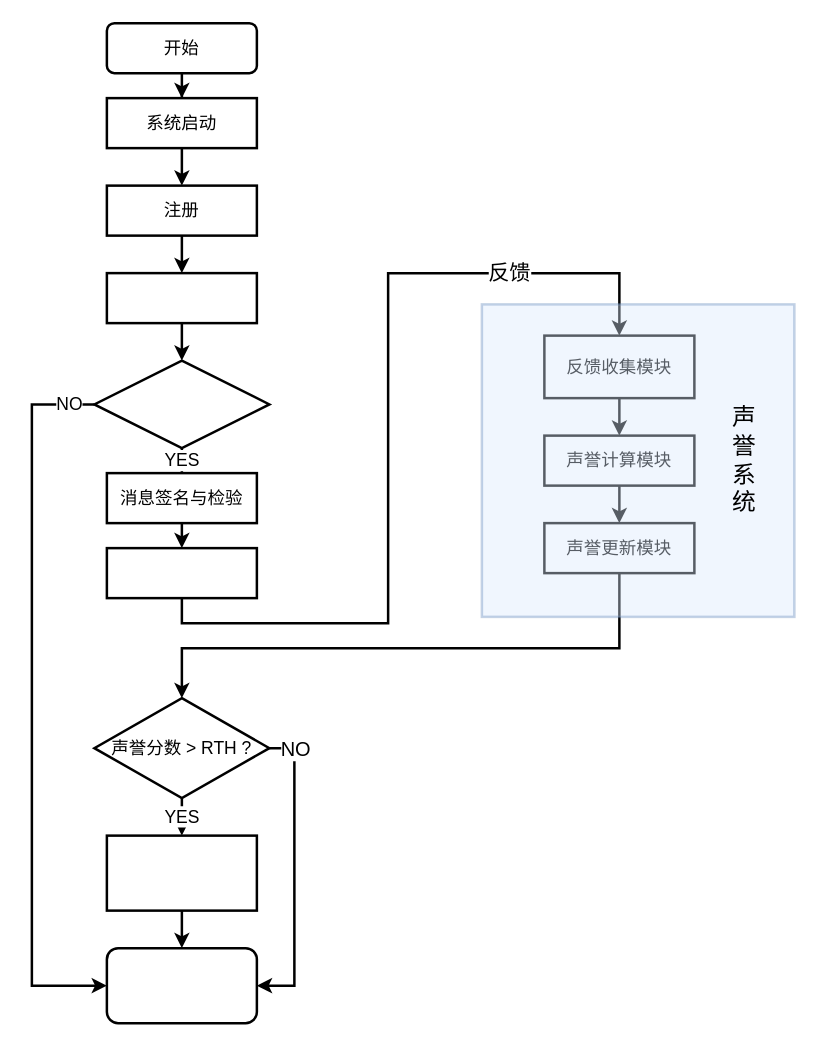
Some shapes in this 816 by 1045 pixel diagram are drawn without their labels. Here are the shapes that lost their labels. From the top down, the centre of each, then its label:
At (x=181, y=297): "登录".
At (x=181, y=404): "有效？".
At (x=181, y=572): "声誉管理".
At (x=181, y=872): "伪ID和私钥提取".
At (x=181, y=985): "结束".
